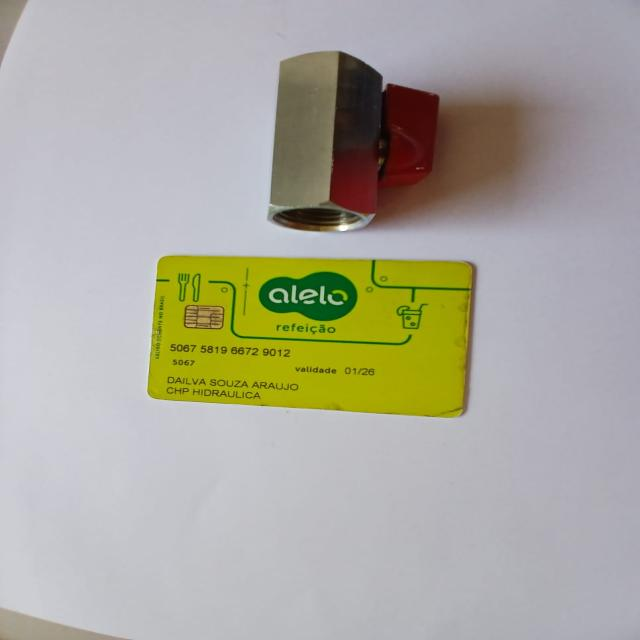cartao: (136, 250, 477, 417)
rosca_interna: (268, 51, 438, 231)
